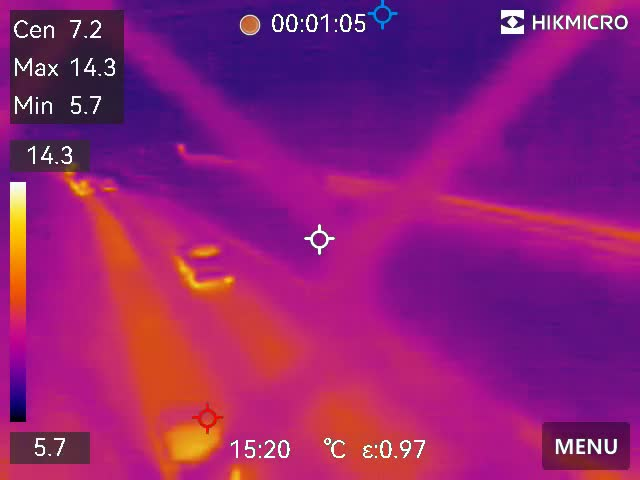heavyTruck: (173, 243, 241, 292)
